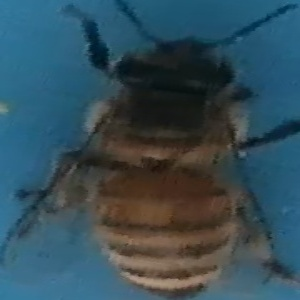bee: (40, 1, 297, 300)
